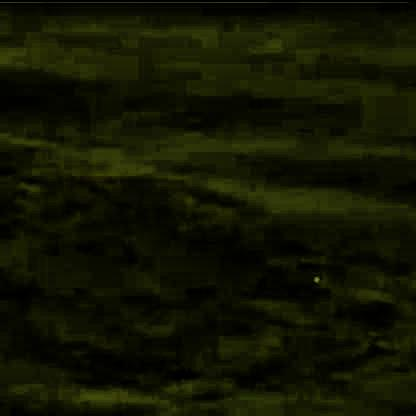golfball: (310, 270, 317, 280)
